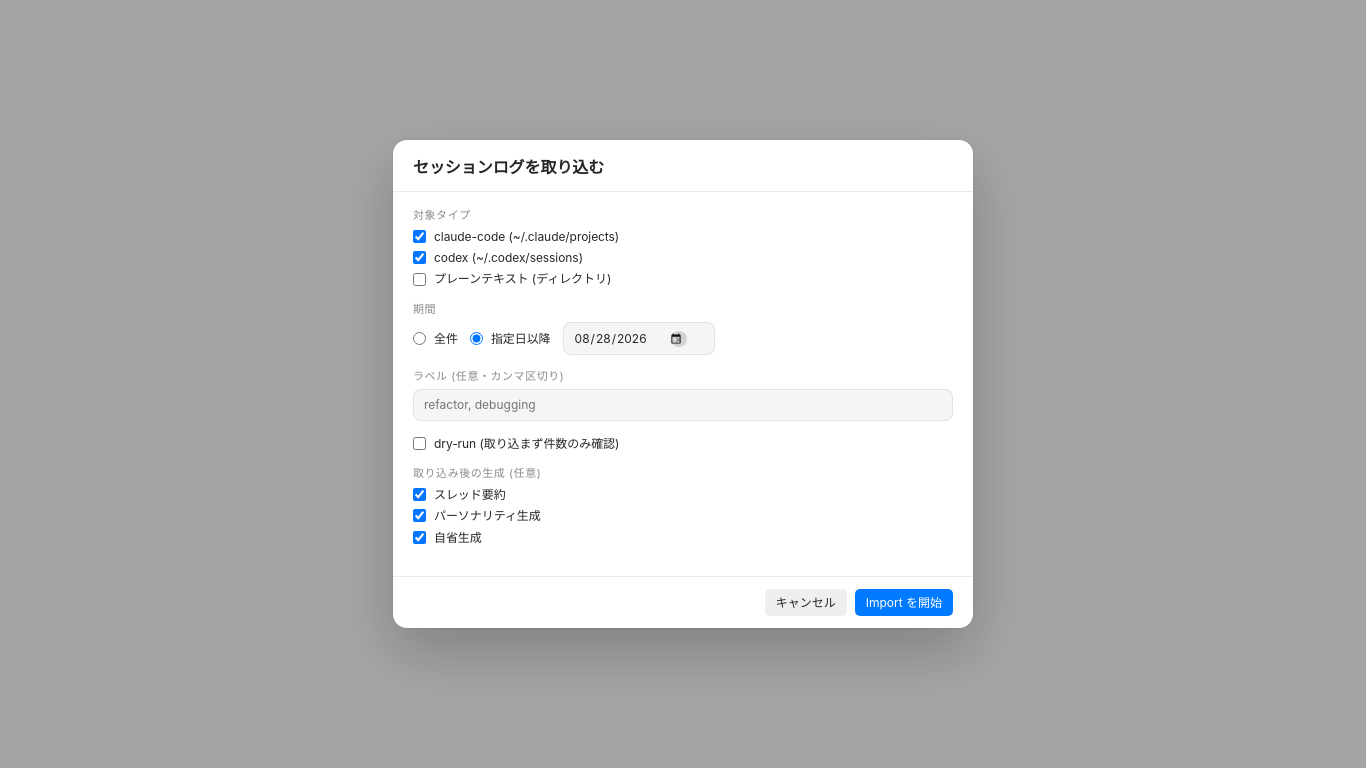
Test: ImportDialog plain source › fills the root from the directory picker
The width and height of the screenshot is (1366, 768).
Click the checkbox labelled "プレーンテキスト (ディレクトリ)" at (420, 279), box [413,273,426,286]
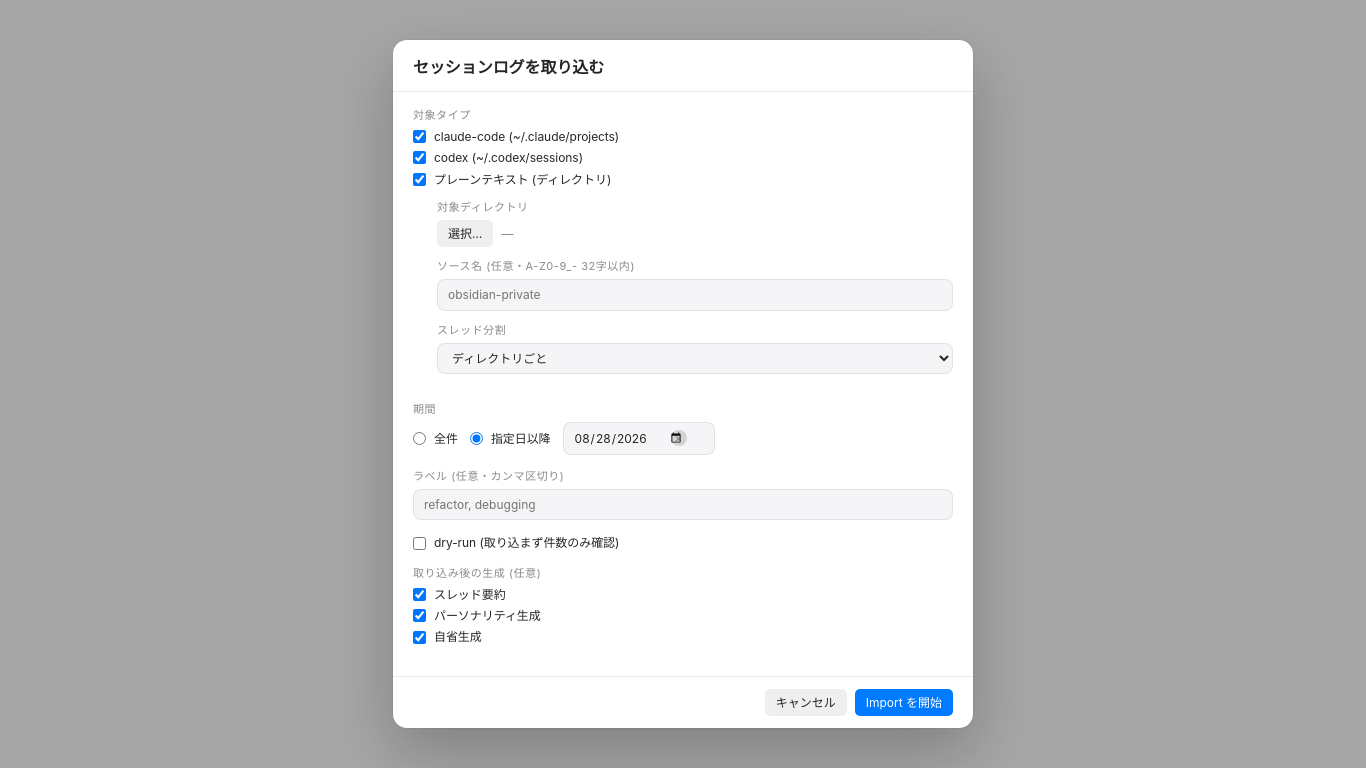
Click the button "選択…" at (465, 234), box [437,220,493,247]
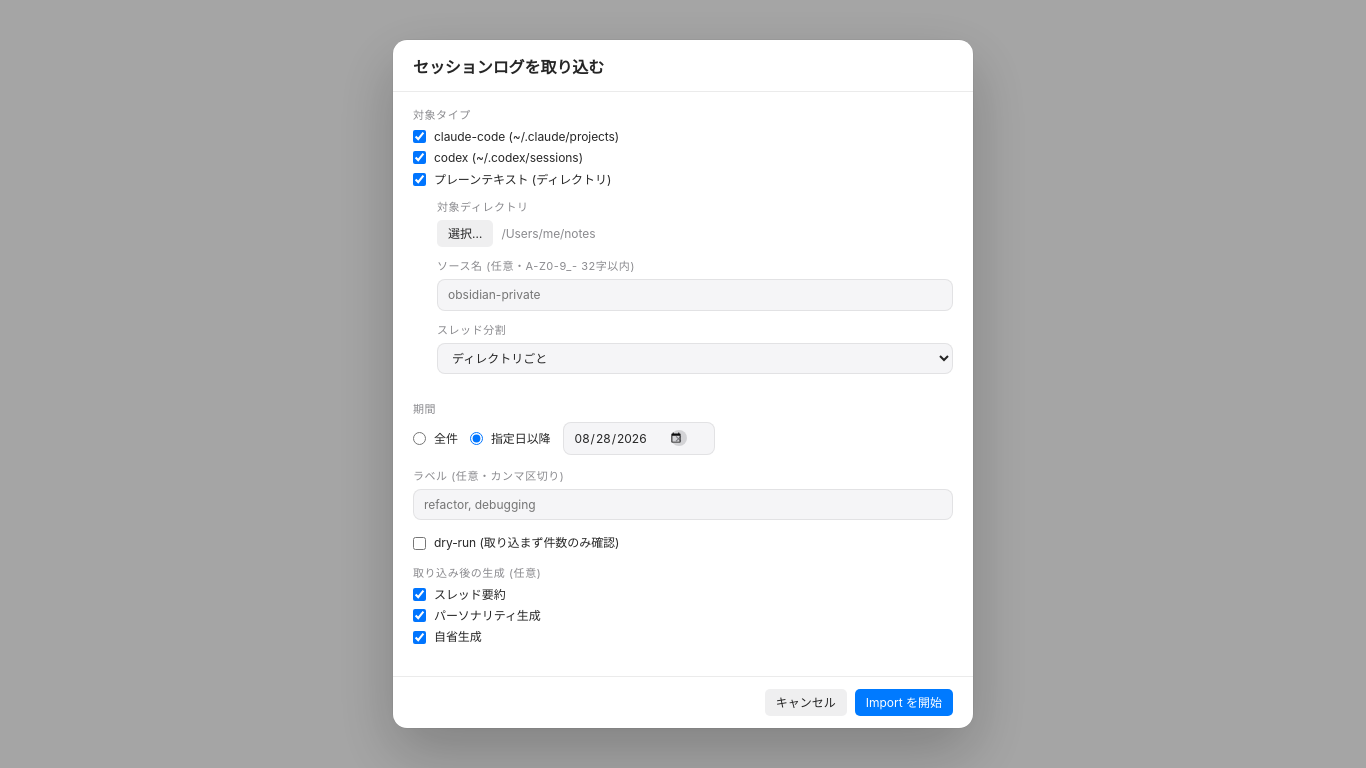
Check: the text "/Users/me/notes" is shown, box [501,225,595,242]
